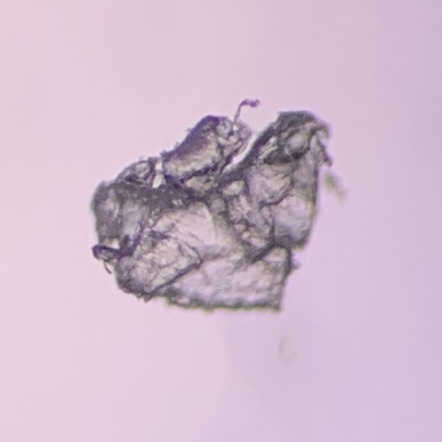microplastic: (92, 97, 351, 319)
